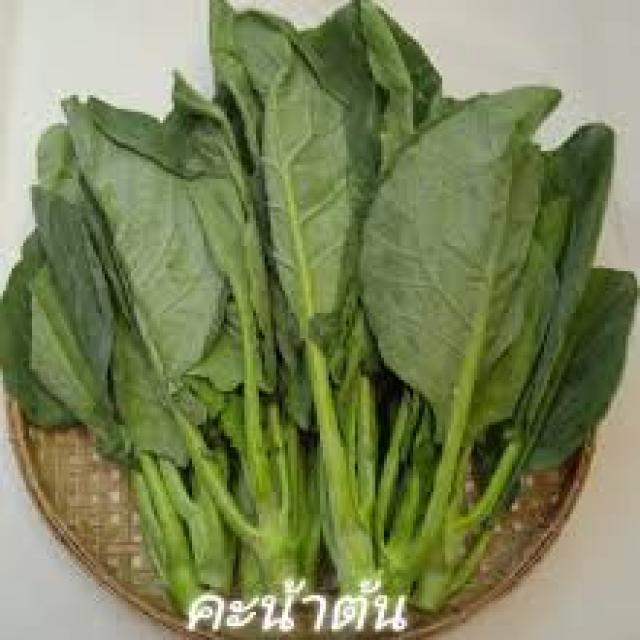collard: (18, 0, 632, 598)
